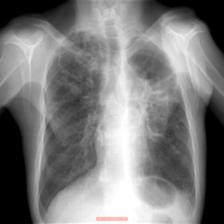tuberculosis: (34, 26, 199, 224)
